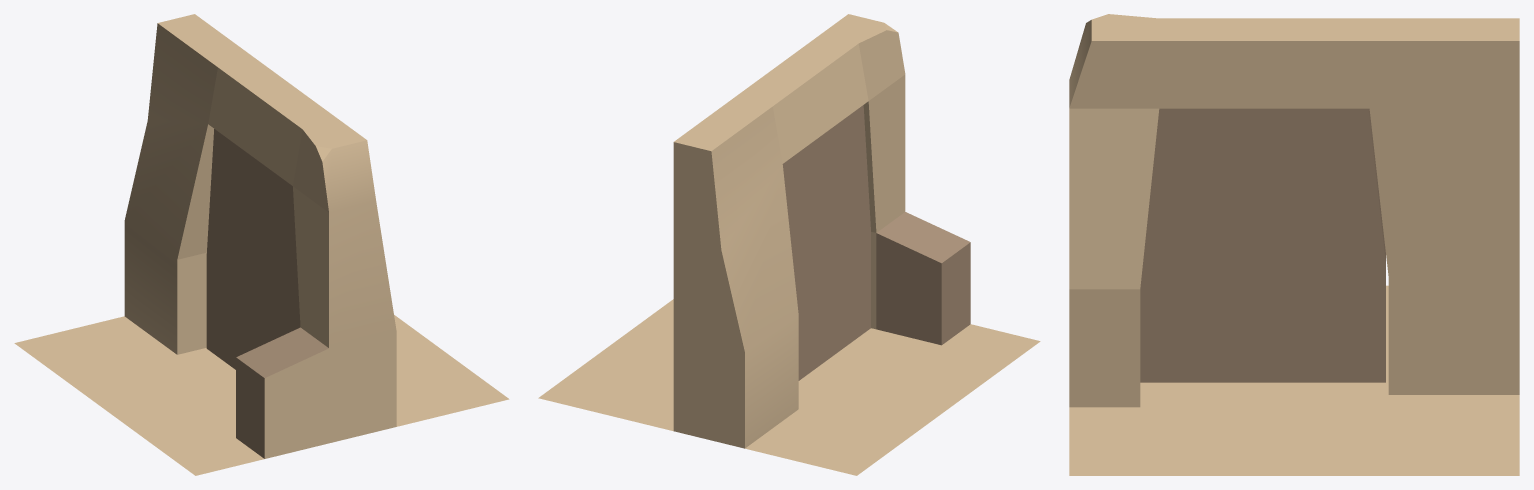
The model's file is FloorRevolvingDoor.fbx.
3 views of the same model, side by side, from view 1: azimuth 30°, elevation 25°; view 2: azimuth 150°, elevation 25°; view 3: azimuth 270°, elevation 25° (orthographic). The views are drawn at different scales.
Visible parts, largest first — view 1: FloorRevolvingDoor, FloorRevolvingDoorDoor; view 2: FloorRevolvingDoor, FloorRevolvingDoorDoor; view 3: FloorRevolvingDoor, FloorRevolvingDoorDoor.
Boxes of the visible parts, x1=… form: FloorRevolvingDoor: x1=14, y1=14, x2=509, y2=475; FloorRevolvingDoorDoor: x1=206, y1=129, x2=300, y2=369; FloorRevolvingDoor: x1=538, y1=14, x2=1040, y2=475; FloorRevolvingDoorDoor: x1=782, y1=105, x2=870, y2=380; FloorRevolvingDoor: x1=1069, y1=14, x2=1519, y2=475; FloorRevolvingDoorDoor: x1=1140, y1=108, x2=1385, y2=382.
Bounding box in the file's own units: 5 × 4.34 × 5.
